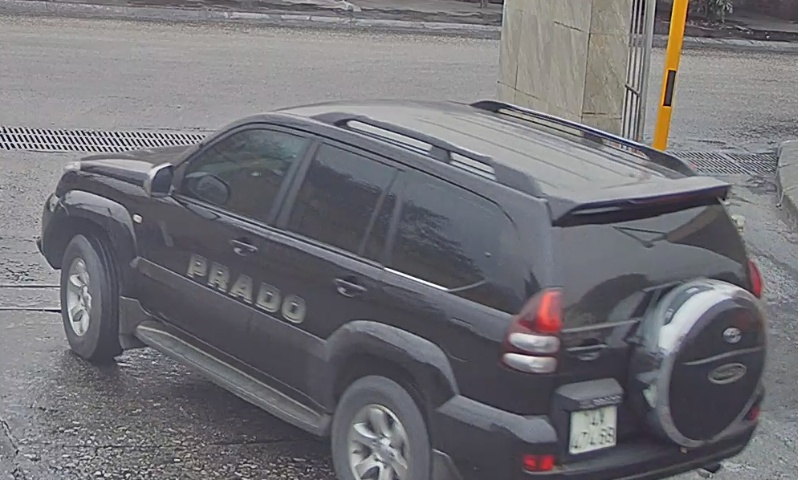vehicle plate: (562, 398, 622, 454)
